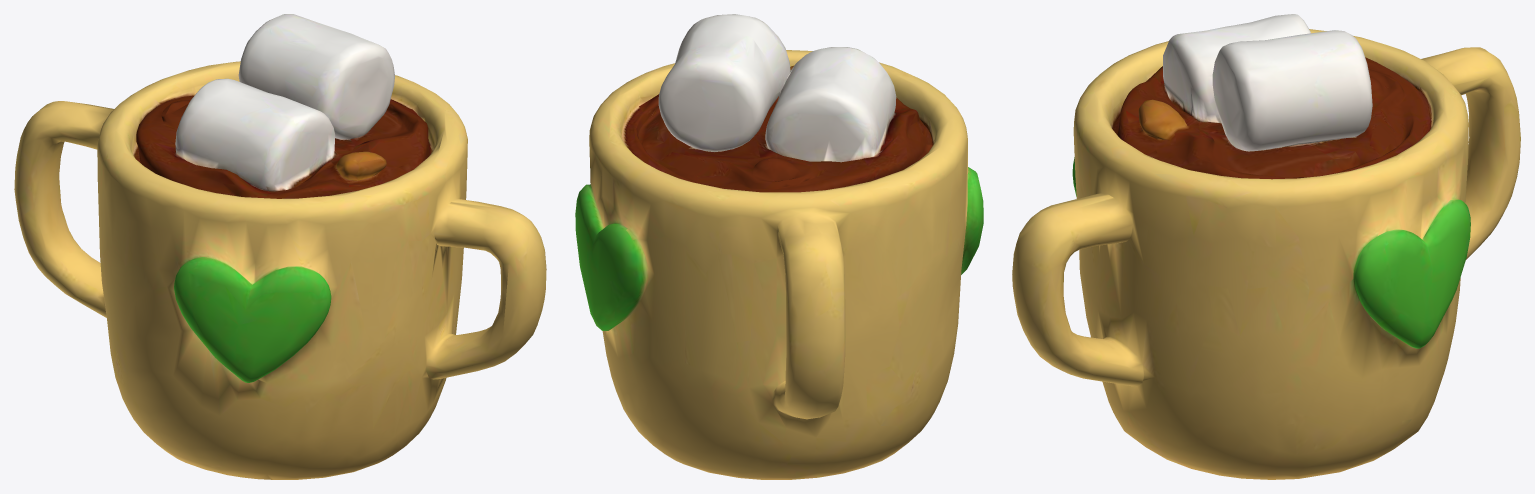
The model's file is cocoa_mug.glb.
3 views of the same model, side by side, from view 1: azimuth 30°, elevation 25°; view 2: azimuth 150°, elevation 25°; view 3: azimuth 270°, elevation 25° (orthographic). The views are drawn at different scales.
Visible parts, largest first — view 1: tripo_node_dc6bab20-fe00-4186-b85c-f60fec274176; view 2: tripo_node_dc6bab20-fe00-4186-b85c-f60fec274176; view 3: tripo_node_dc6bab20-fe00-4186-b85c-f60fec274176.
Boxes of the visible parts, <box> form: tripo_node_dc6bab20-fe00-4186-b85c-f60fec274176: <box>14,14,546,479</box>; tripo_node_dc6bab20-fe00-4186-b85c-f60fec274176: <box>575,14,983,479</box>; tripo_node_dc6bab20-fe00-4186-b85c-f60fec274176: <box>1012,14,1520,479</box>.
Size of the model in its own units: 0.7783 by 0.8541 by 0.9807.
Materials: 1 (1 with a texture image).
